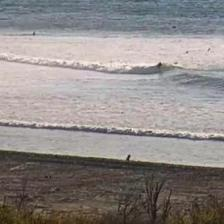surfer: (156, 61, 164, 72), (27, 31, 36, 36), (172, 25, 177, 29), (206, 48, 211, 52), (185, 51, 189, 54)
